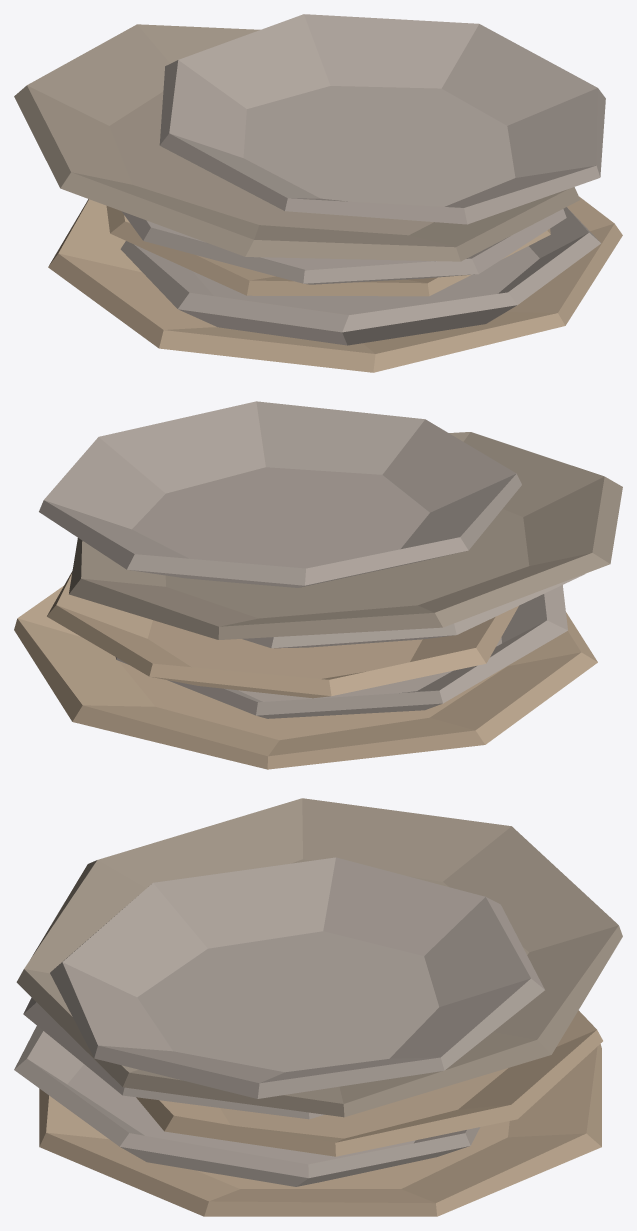
File: SM_Plates.gltf
3 views of the same model, one above another, from view 1: azimuth 30°, elevation 25°; view 2: azimuth 150°, elevation 25°; view 3: azimuth 270°, elevation 25° (orthographic). The views are drawn at different scales.
Visible parts, largest first — view 1: SM_Plates; view 2: SM_Plates; view 3: SM_Plates.
Part boxes in pixels (x1,y1,x2,y2): SM_Plates: (14, 14, 622, 372); SM_Plates: (14, 401, 622, 769); SM_Plates: (14, 798, 622, 1216).
Bounding box in the file's own units: 0.4834 × 0.1521 × 0.4599.
Materials: 1 (1 with a texture image).
